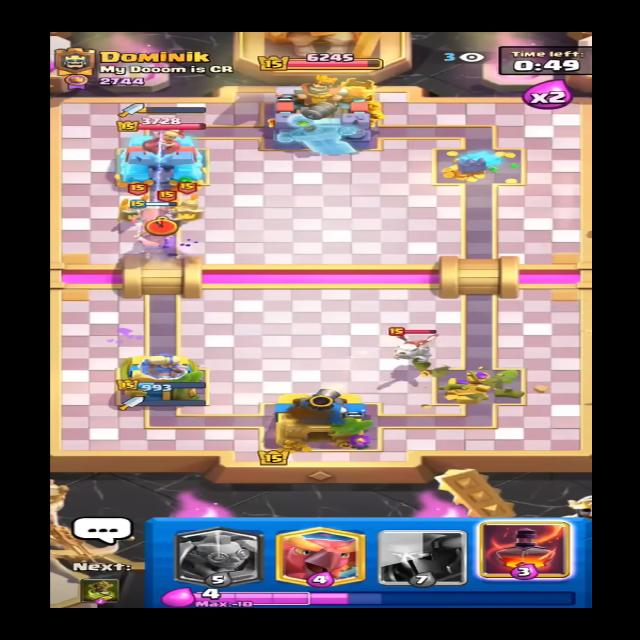guards: (168, 194, 205, 222), (118, 194, 146, 218)
skeleton-dragon: (387, 328, 449, 366)
